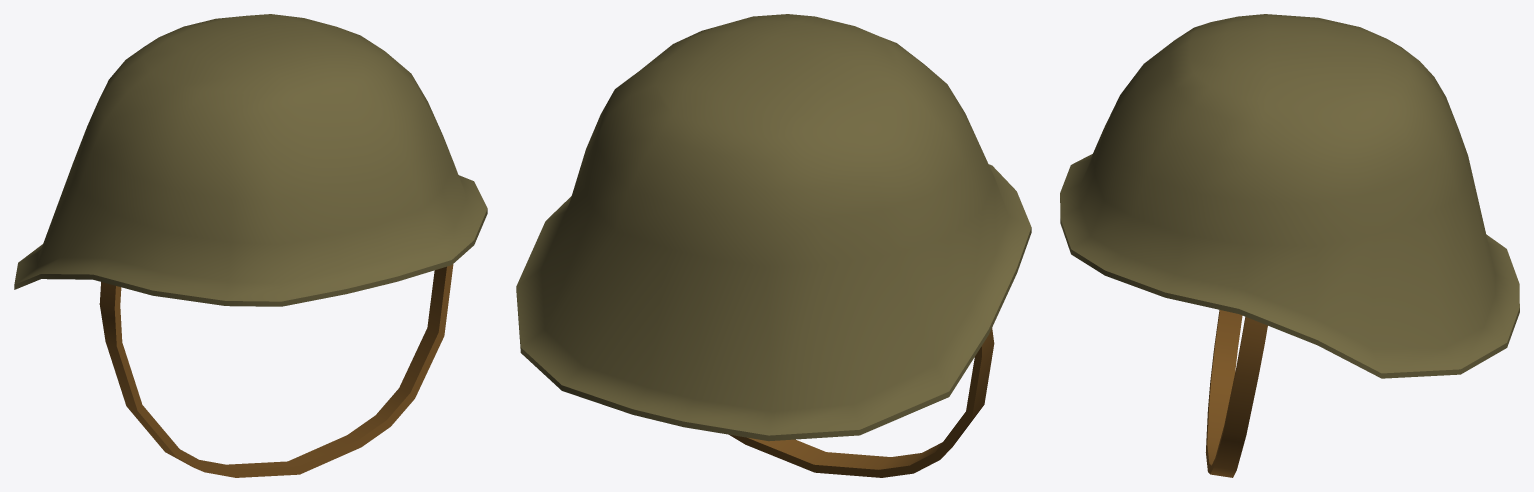
Rendered from Hat_119_01.fbx.
The picture shows the model from 3 angles, left to right: view 1: azimuth 30°, elevation 25°; view 2: azimuth 150°, elevation 25°; view 3: azimuth 270°, elevation 25°; orthographic projection. The views are drawn at different scales.
Visible parts, largest first — view 1: Hat_119_01; view 2: Hat_119_01; view 3: Hat_119_01.
Boxes of the visible parts, x1=… form: Hat_119_01: x1=14, y1=14, x2=487, y2=477; Hat_119_01: x1=516, y1=14, x2=1031, y2=477; Hat_119_01: x1=1060, y1=14, x2=1519, y2=477.
Bounding box in the file's own units: 46.35 × 44.65 × 44.81.
